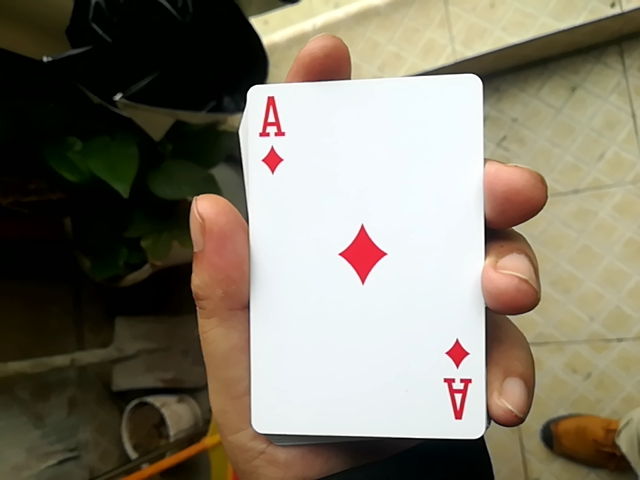fk a: (233, 76, 492, 443)
